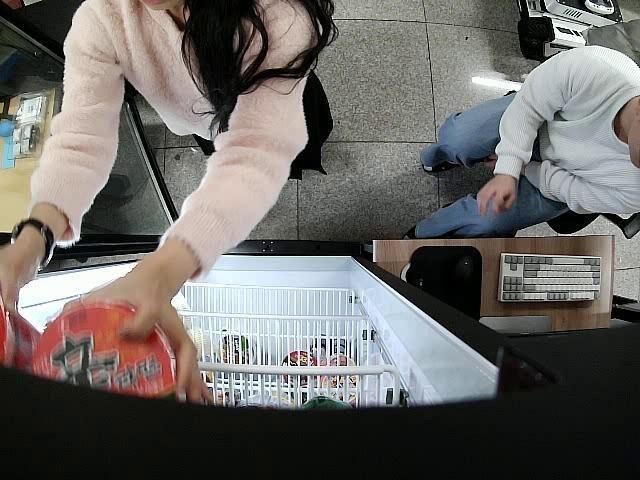01_ShinRamen_L: (30, 305, 180, 405), (0, 307, 46, 372)
